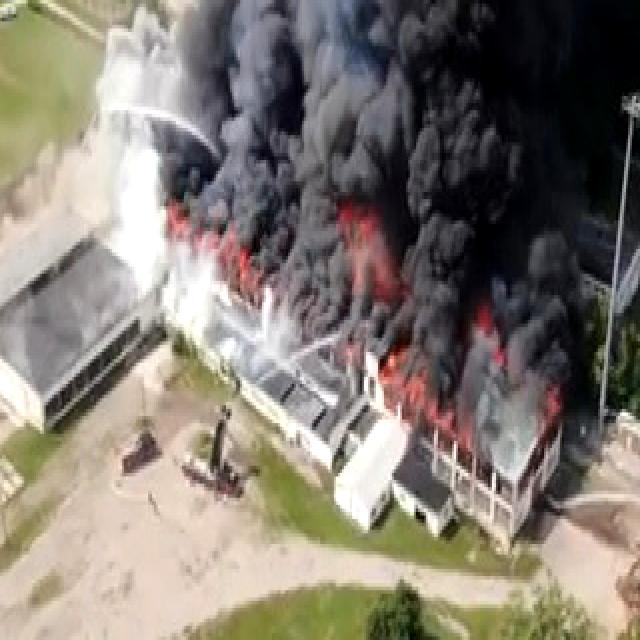smoke: (368, 0, 516, 324), (292, 0, 394, 299), (202, 0, 296, 252), (509, 216, 602, 360)
